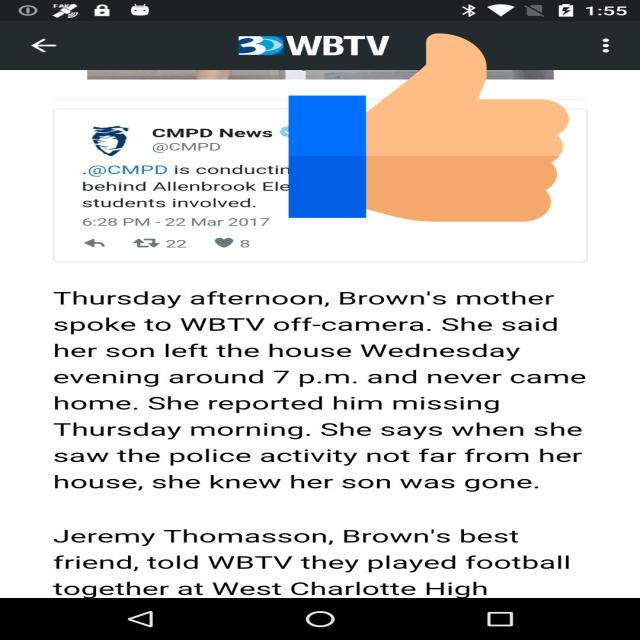privacy zuckering: (288, 29, 569, 226)
